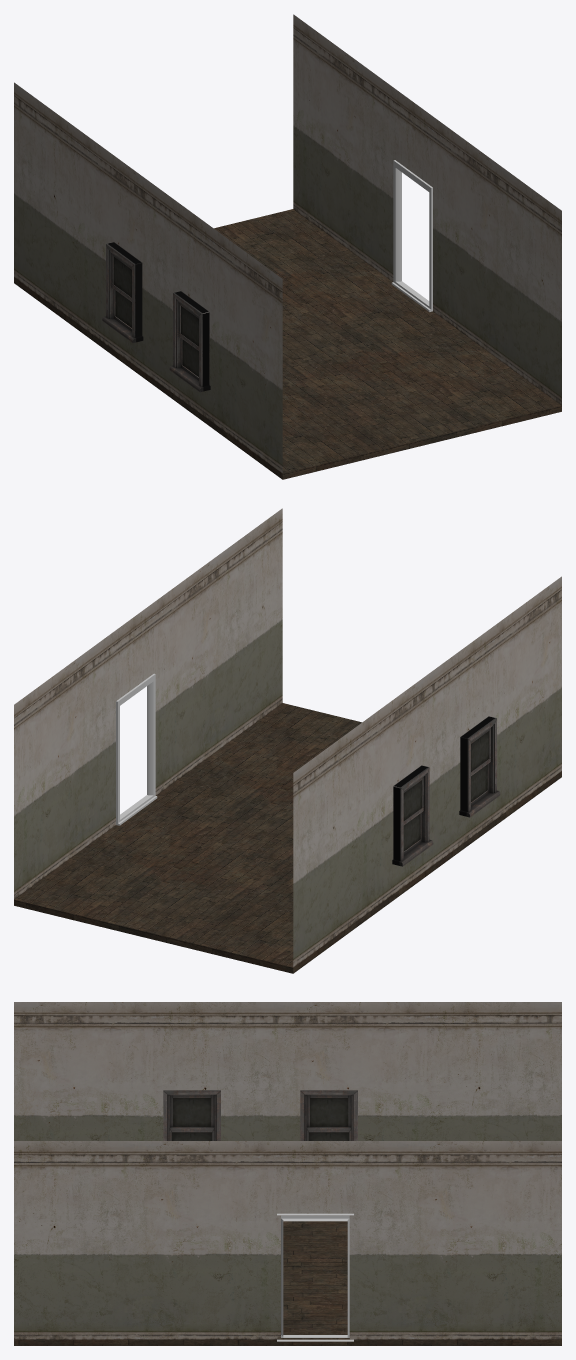
File: hallway_finished_10m_door_windows_right.fbx
3 renders of one model, top to bottom at view 1: azimuth 30°, elevation 25°; view 2: azimuth 150°, elevation 25°; view 3: azimuth 270°, elevation 25°, orthographic.
Parts seen in each view (by area): view 1: hallway_finished_10m_door_windows_right; view 2: hallway_finished_10m_door_windows_right; view 3: hallway_finished_10m_door_windows_right.
Boxes of the visible parts, bbox=[...] form: hallway_finished_10m_door_windows_right: bbox=[14, 14, 561, 479]; hallway_finished_10m_door_windows_right: bbox=[14, 508, 561, 973]; hallway_finished_10m_door_windows_right: bbox=[14, 1002, 561, 1345].
Size of the model in its own units: 630 by 412 by 1000.
